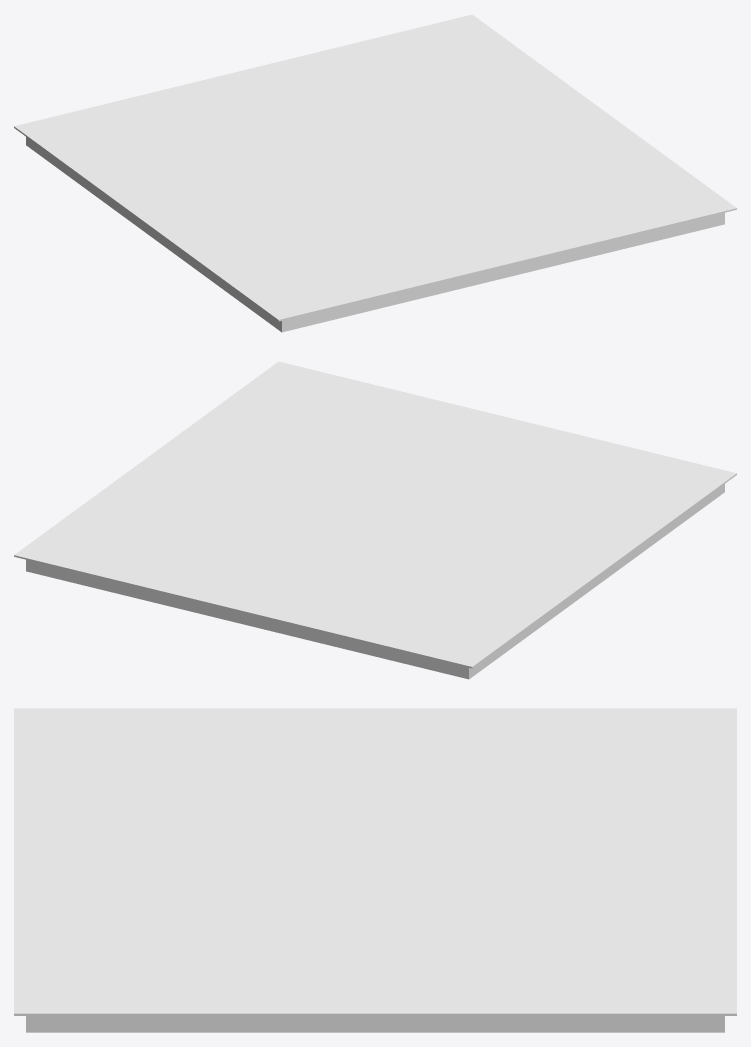
Rendered from Ceiling0001.obj.
3 views of the same model, one above another, from view 1: azimuth 30°, elevation 25°; view 2: azimuth 150°, elevation 25°; view 3: azimuth 270°, elevation 25° (orthographic). The views are drawn at different scales.
Size of the model in its own units: 3 by 0.11 by 3.
1 material, 1 textured.
